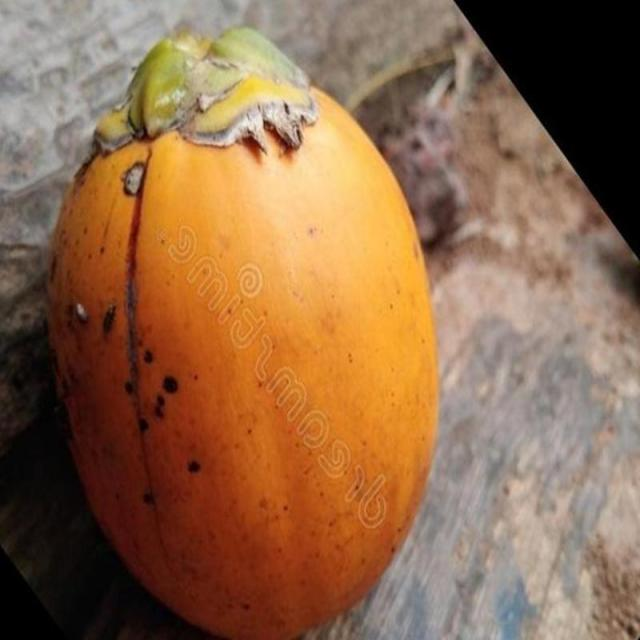good: (45, 27, 442, 639)
